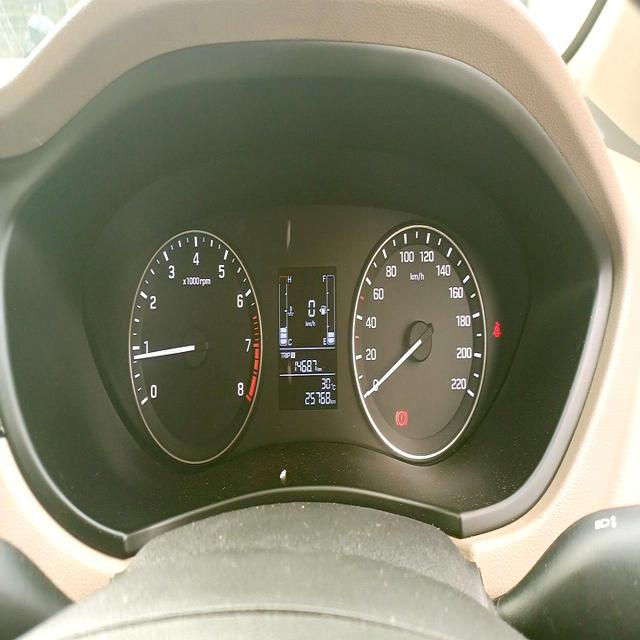odometer: (303, 389, 330, 404)
